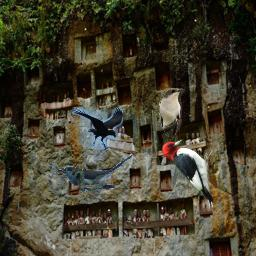Crow: (72, 107, 123, 150)
Cuckoo: (56, 154, 135, 193), (159, 88, 185, 151)
Woodpecker: (162, 139, 213, 208)
